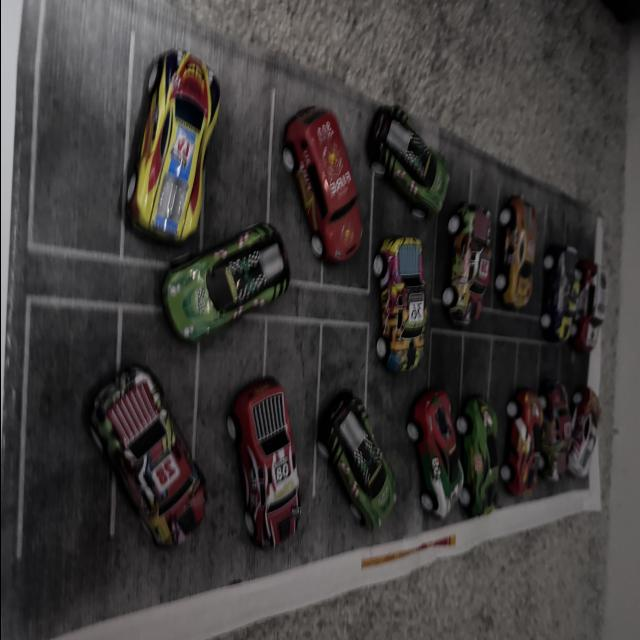Car: (98, 0, 232, 244), (106, 367, 214, 546), (275, 74, 366, 280), (162, 214, 292, 340), (348, 68, 452, 215), (232, 382, 304, 580), (326, 368, 404, 532), (358, 233, 428, 379), (438, 183, 508, 327), (442, 332, 493, 524), (413, 370, 461, 536), (542, 240, 586, 388), (563, 382, 601, 515), (528, 379, 566, 488), (571, 251, 609, 357), (506, 372, 530, 538), (506, 209, 542, 318)
